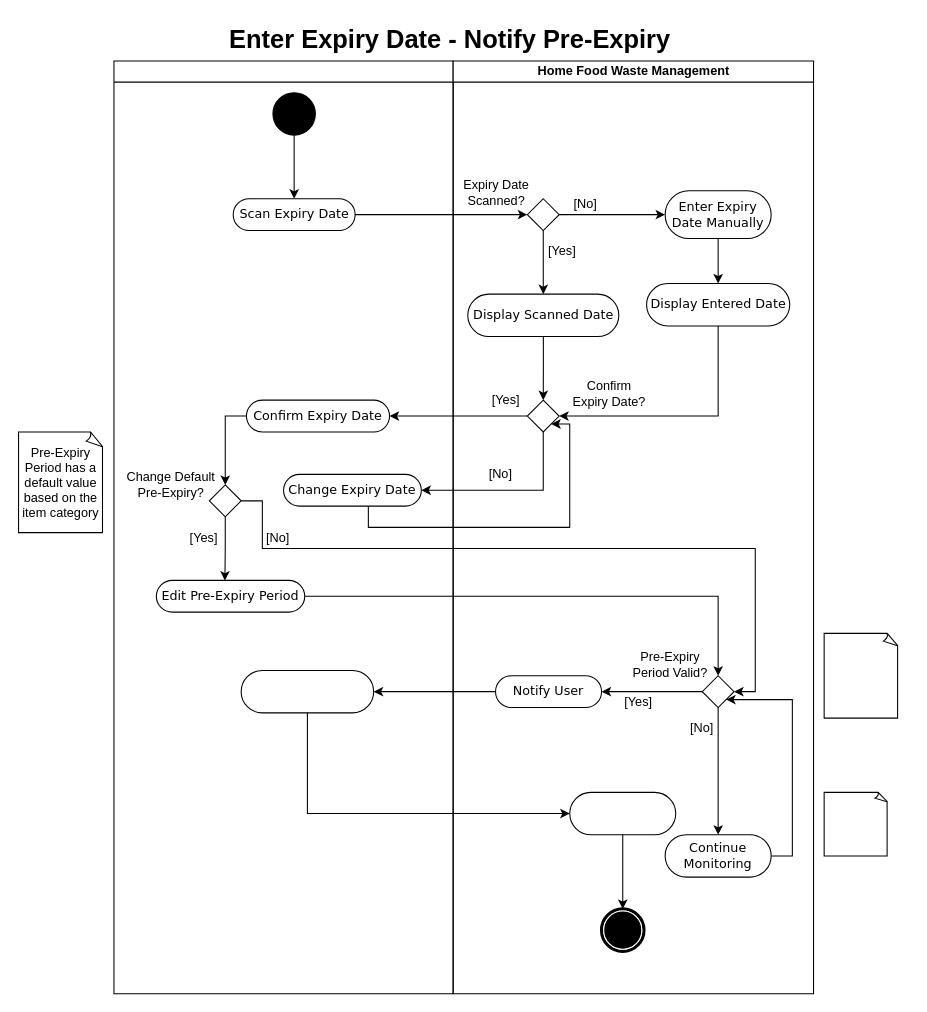
This 927x1012 diagram has some shape labels left out. The shapes that lost their labels are listed below. From the top down, each one's box as (x1, y1, x2, y2) in pixels, then its label:
(113, 60, 453, 994): Homeowner
(240, 669, 374, 713): View Nearby Food Bank Locations
(823, 632, 898, 718): If the current date is in the Pre-Expiry Period
(569, 791, 676, 835): Display Locations
(823, 791, 888, 856): for each item
